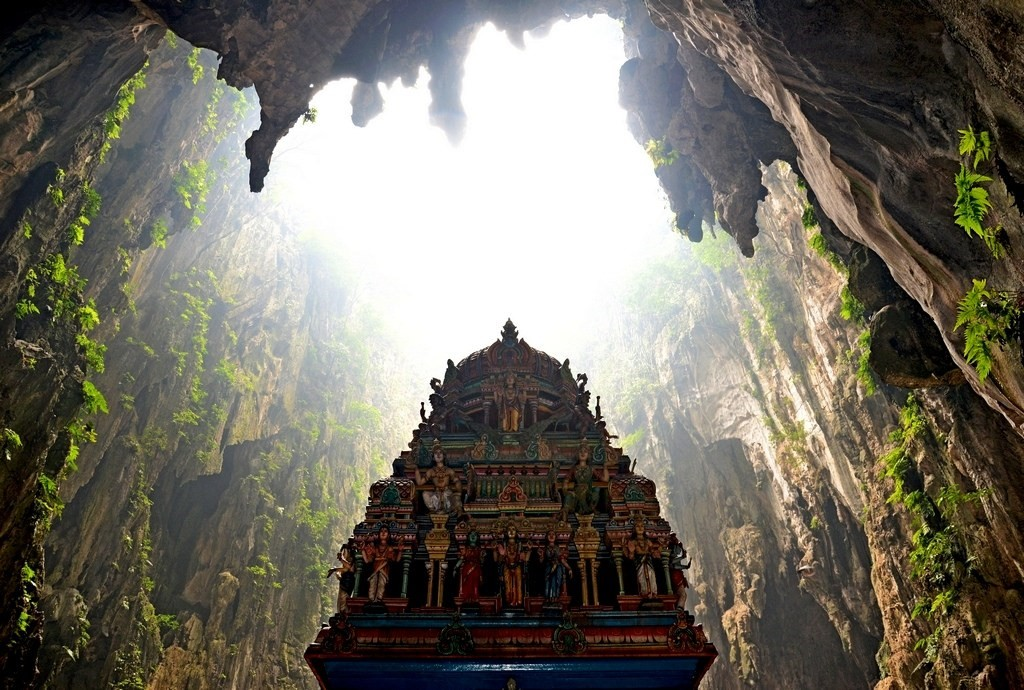Hindu Temple: (344, 304, 699, 666)
